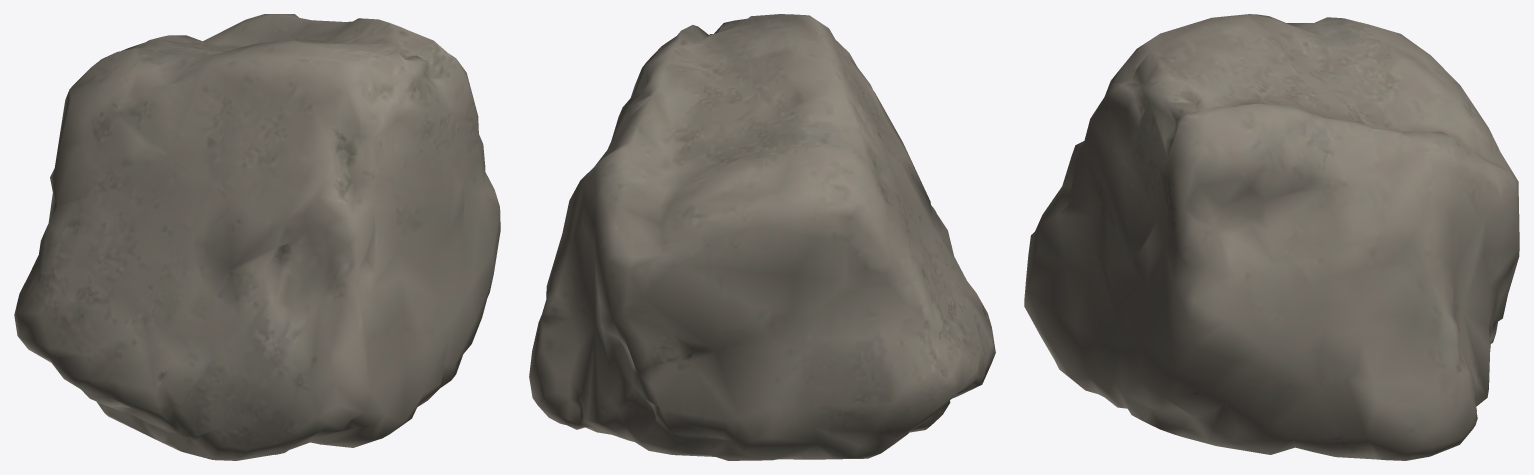
The model's file is moon_rock_02.glb.
3 renders of one model, left to right at view 1: azimuth 30°, elevation 25°; view 2: azimuth 150°, elevation 25°; view 3: azimuth 270°, elevation 25°, orthographic. The views are drawn at different scales.
Parts seen in each view (by area): view 1: moon_rock_02_LOD0; view 2: moon_rock_02_LOD0; view 3: moon_rock_02_LOD0.
Part boxes in pixels (x1,y1,x2,y2): moon_rock_02_LOD0: (14, 14, 500, 460); moon_rock_02_LOD0: (529, 14, 995, 460); moon_rock_02_LOD0: (1024, 14, 1519, 460).
Bounding box in the file's own units: 0.2465 × 0.2019 × 0.2513.
Materials: 1 (1 with a texture image).
